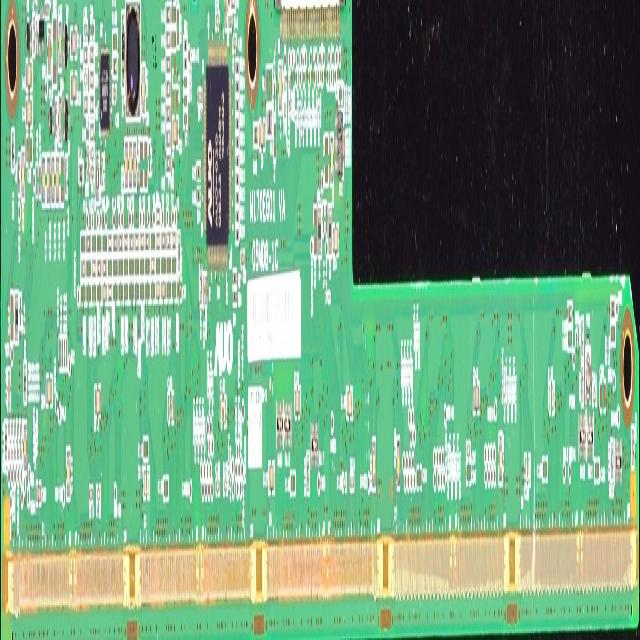Capacitor Jumper: (142, 465, 150, 500), (41, 154, 46, 209), (329, 134, 334, 188), (50, 154, 55, 207), (472, 381, 480, 414), (258, 119, 266, 152), (396, 439, 401, 491), (94, 383, 101, 417), (167, 393, 174, 426), (70, 72, 77, 105), (66, 446, 70, 503), (599, 378, 606, 410), (548, 383, 555, 415), (524, 454, 531, 486), (46, 154, 50, 209), (268, 462, 275, 493), (313, 206, 317, 260), (46, 372, 52, 408), (23, 420, 27, 474), (372, 439, 376, 493), (48, 26, 52, 80), (58, 91, 62, 145), (58, 19, 62, 72), (278, 63, 282, 116), (332, 224, 339, 254), (25, 134, 32, 164), (60, 154, 64, 206), (55, 156, 59, 208), (10, 290, 14, 342), (324, 135, 328, 187), (128, 138, 132, 190), (71, 26, 77, 60), (132, 138, 136, 189), (124, 140, 128, 191), (140, 140, 144, 191), (141, 65, 145, 115), (346, 388, 352, 421), (21, 152, 25, 200), (26, 96, 32, 128), (294, 387, 300, 418), (26, 61, 32, 92), (144, 136, 147, 190), (16, 420, 20, 459), (35, 481, 41, 507), (96, 280, 102, 305), (499, 434, 502, 483), (7, 367, 10, 413), (128, 280, 134, 302), (32, 12, 35, 56), (542, 458, 548, 480), (290, 472, 295, 498), (594, 458, 599, 483), (13, 418, 16, 459), (134, 280, 139, 304), (91, 282, 96, 306), (10, 420, 13, 460), (7, 420, 10, 459), (118, 282, 123, 305), (80, 283, 85, 306), (417, 467, 422, 490), (350, 471, 355, 494), (342, 472, 347, 495), (161, 280, 166, 302), (150, 280, 155, 302), (466, 462, 471, 484), (88, 484, 93, 506), (214, 11, 220, 29), (202, 273, 205, 309), (177, 280, 182, 301), (83, 68, 88, 89), (112, 84, 117, 105), (145, 280, 150, 300), (166, 280, 171, 300), (86, 284, 91, 304), (83, 19, 88, 39), (227, 14, 232, 32), (592, 390, 597, 408), (163, 479, 168, 497), (172, 278, 176, 300), (156, 278, 160, 300), (102, 280, 106, 302), (124, 282, 128, 304), (198, 87, 202, 109), (232, 33, 236, 54), (20, 418, 22, 460), (140, 280, 144, 300), (466, 442, 470, 462), (36, 163, 38, 201), (240, 250, 244, 269), (90, 19, 94, 38), (184, 110, 188, 129), (205, 271, 207, 308), (38, 163, 40, 199), (322, 202, 324, 238), (96, 484, 100, 502), (44, 2, 49, 16), (19, 294, 21, 328), (325, 203, 327, 236), (90, 166, 94, 182)
IC: (203, 44, 232, 270), (99, 47, 110, 137)
Resistor Jumper: (52, 16, 57, 89), (96, 154, 100, 204), (580, 362, 584, 409), (172, 117, 178, 148), (15, 292, 18, 347), (112, 56, 118, 81), (80, 233, 86, 257), (89, 94, 95, 118), (253, 122, 259, 146), (177, 229, 180, 276), (128, 231, 134, 254), (112, 231, 118, 254), (96, 232, 102, 255), (85, 140, 88, 186), (610, 439, 613, 484), (107, 280, 113, 302), (306, 451, 309, 495), (89, 42, 95, 64), (288, 72, 291, 116), (107, 230, 112, 256), (143, 436, 148, 462), (80, 259, 86, 280), (145, 227, 150, 252), (150, 229, 155, 254), (78, 159, 83, 184), (160, 231, 166, 251), (160, 256, 166, 276), (96, 256, 102, 276), (128, 257, 134, 277), (610, 296, 615, 320), (199, 266, 202, 305), (91, 232, 96, 255), (150, 255, 155, 278), (112, 257, 118, 276), (165, 31, 171, 50), (89, 121, 95, 140), (118, 232, 123, 254), (86, 234, 91, 256), (139, 257, 144, 279), (567, 302, 572, 324), (83, 94, 88, 116), (165, 157, 171, 175), (134, 231, 139, 252), (102, 231, 107, 252), (86, 259, 91, 280), (567, 331, 573, 348), (166, 231, 171, 251), (102, 256, 107, 276), (134, 257, 139, 277), (118, 257, 123, 277), (107, 259, 112, 279), (83, 46, 88, 66), (65, 338, 68, 371), (172, 227, 176, 251), (140, 229, 144, 253), (166, 53, 170, 77), (156, 229, 160, 252), (124, 232, 128, 255), (145, 255, 149, 278), (166, 1, 170, 24), (234, 171, 240, 186), (232, 290, 237, 308), (610, 326, 615, 344), (196, 162, 201, 180), (166, 254, 170, 276), (581, 318, 583, 362), (166, 103, 170, 125), (196, 187, 201, 204), (232, 269, 237, 286), (65, 156, 67, 198), (235, 186, 239, 207), (124, 257, 128, 278), (166, 80, 170, 101), (55, 100, 57, 142), (166, 129, 170, 150), (156, 255, 160, 275), (172, 256, 176, 276), (92, 259, 96, 279), (632, 425, 634, 465), (89, 72, 94, 88), (156, 205, 160, 224), (63, 334, 65, 370), (183, 54, 187, 72), (90, 144, 94, 162), (100, 154, 102, 189), (235, 205, 239, 222), (235, 115, 239, 132), (235, 154, 239, 171), (235, 228, 239, 244), (235, 79, 239, 95), (235, 133, 239, 148), (183, 38, 187, 52), (235, 98, 239, 112), (235, 58, 238, 74), (5, 420, 6, 459), (61, 336, 62, 371), (59, 336, 60, 368)
Transistor: (63, 96, 71, 146), (63, 19, 70, 71), (38, 2, 44, 58), (48, 100, 54, 140)
